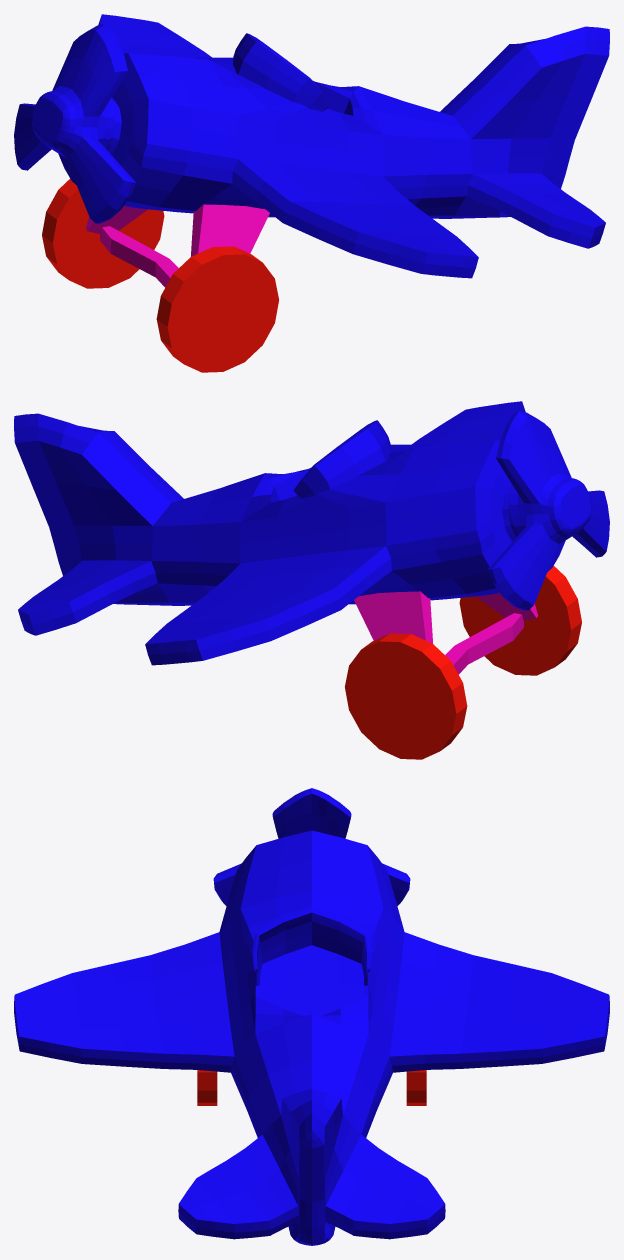
File: juguetequest2.fbx
The picture shows the model from 3 angles, top to bottom: view 1: azimuth 30°, elevation 25°; view 2: azimuth 150°, elevation 25°; view 3: azimuth 270°, elevation 25°; orthographic projection. The views are drawn at different scales.
Visible parts, largest first — view 1: Plane; view 2: Plane; view 3: Plane.
Part boxes in pixels (bbox=[...]): Plane: bbox=[14, 14, 609, 372]; Plane: bbox=[14, 401, 609, 759]; Plane: bbox=[14, 788, 609, 1245].
Size of the model in its own units: 412 by 218 by 410.
